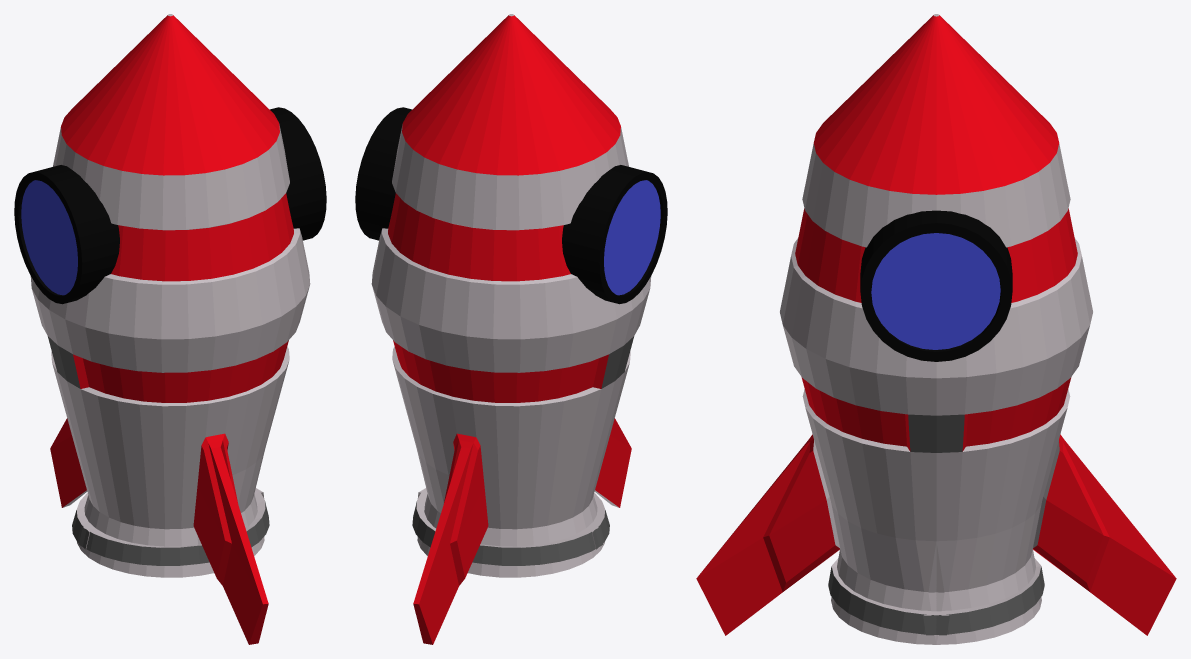
File: SpaceShip.fbx
3 renders of one model, left to right at view 1: azimuth 30°, elevation 25°; view 2: azimuth 150°, elevation 25°; view 3: azimuth 270°, elevation 25°, orthographic. The views are drawn at different scales.
Visible parts, largest first — view 1: Cylinder, Cylinder.001; view 2: Cylinder, Cylinder.001; view 3: Cylinder, Cylinder.001.
Boxes of the visible parts, x1=… form: Cylinder: x1=30, y1=14, x2=310, y2=644; Cylinder.001: x1=14, y1=107, x2=326, y2=304; Cylinder: x1=371, y1=14, x2=651, y2=644; Cylinder.001: x1=355, y1=107, x2=667, y2=304; Cylinder: x1=696, y1=14, x2=1176, y2=644; Cylinder.001: x1=860, y1=210, x2=1012, y2=361.
Size of the model in its own units: 232 by 500 by 349.
